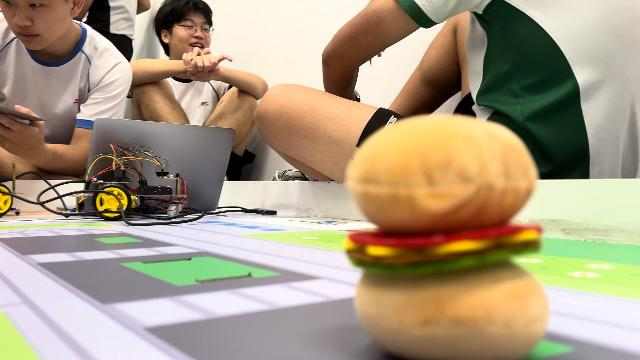burger: (340, 112, 552, 356)
